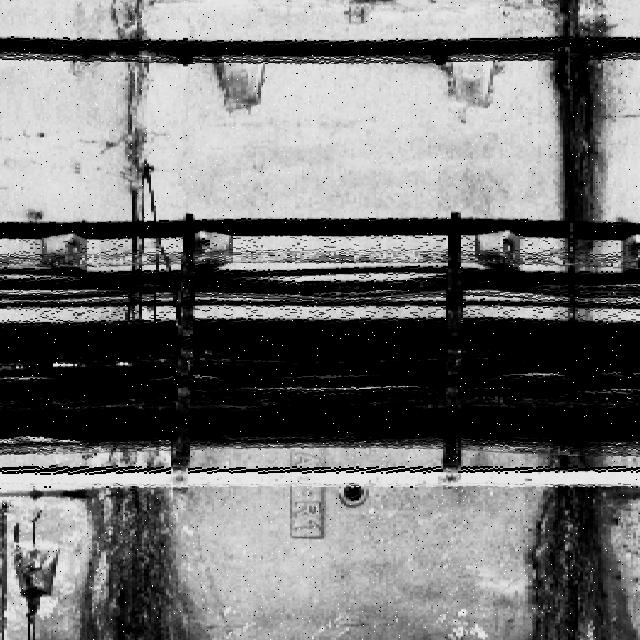leakage: (63, 445, 212, 640), (541, 1, 618, 323), (517, 452, 640, 640), (105, 1, 157, 235)
